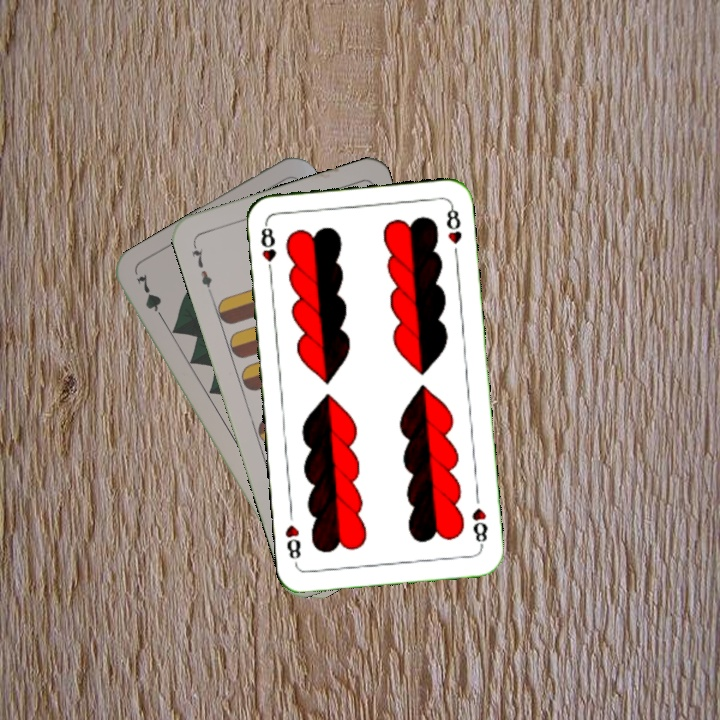E7: (188, 239, 215, 297)
G7: (132, 270, 169, 326)
H8: (256, 219, 279, 278), (468, 503, 491, 551)
